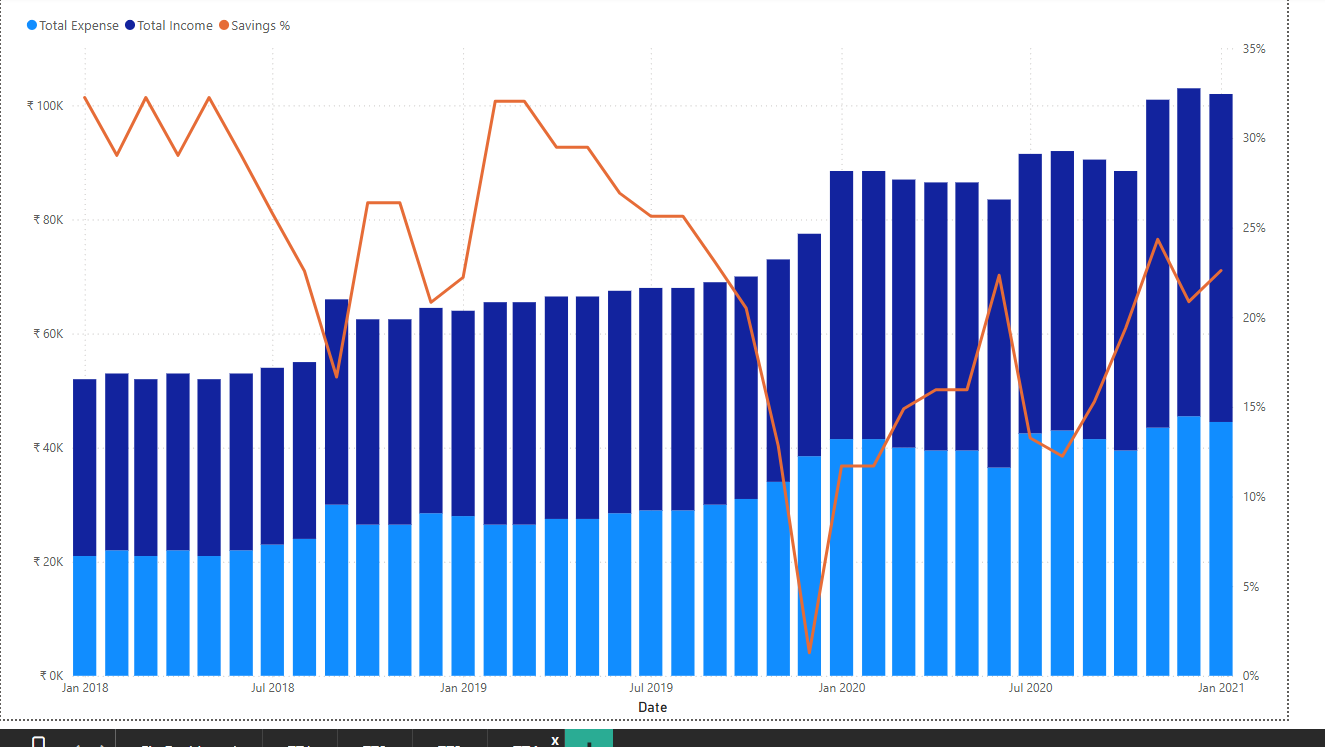

What the dashboard file says about the page in this screenshot:
{"tool":"powerbi","page":{"name":"TT4","canvas":[1280,720],"ordinal":4},"visuals":[{"type":"lineStackedColumnComboChart","fields":{"Category":["FinData.Date"],"Y":["Key Measures.Total Expense","Key Measures.Total Income"],"Y2":["Key Measures.Savings %"]},"box":[19.9,8.7,1244,711.5],"z":0}]}

Visuals, with their boxes on the page's 1280x720 design canvas (x1, y1, x2, y2). These are canvas units, not pixel positions in the 1325x747 screenshot, which may show the page scaled, cropped or inside an application window:
lineStackedColumnComboChart - FinData.Date x Key Measures.Total Expense: {"left": 20, "top": 9, "right": 1264, "bottom": 720}
